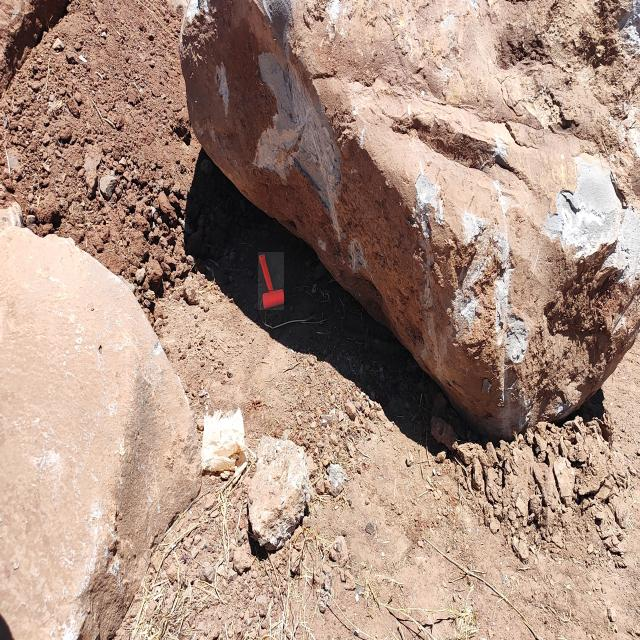Orange_hammer: (258, 252, 284, 310)
